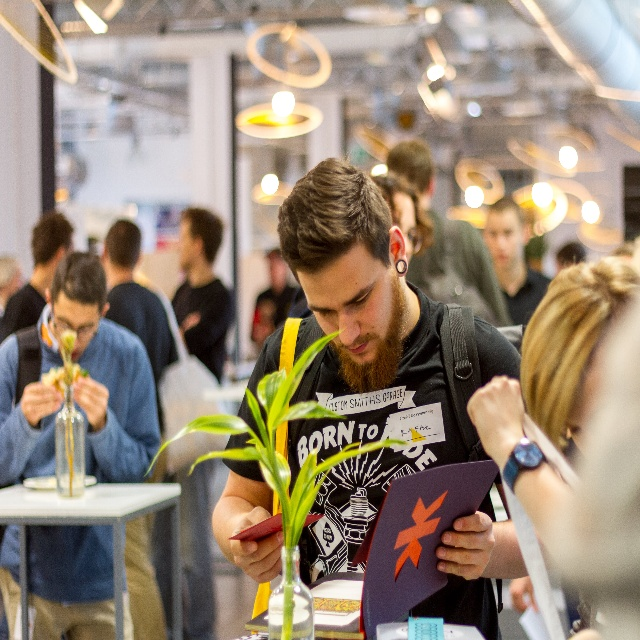Gafas: (50, 304, 99, 342)
Sin_guantes: (466, 375, 525, 461), (230, 505, 284, 585), (436, 511, 495, 581), (71, 376, 110, 429), (21, 380, 62, 427)
